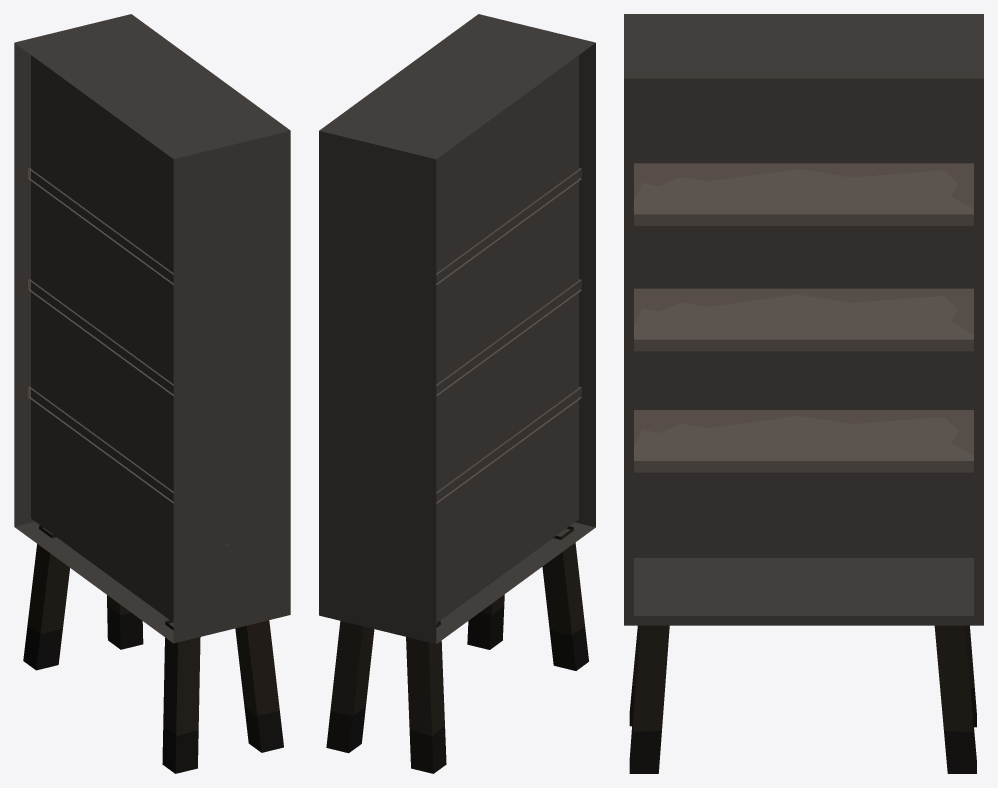
Rendered from bookShelfStanding.obj.
The picture shows the model from 3 angles, left to right: view 1: azimuth 30°, elevation 25°; view 2: azimuth 150°, elevation 25°; view 3: azimuth 270°, elevation 25°; orthographic projection. The views are drawn at different scales.
Visible parts, largest first — view 1: Cube, Cube.001, Cube.003, Cube.005, Cube.004, Cube.002, Cube.006, Cube.007; view 2: Cube, Cube.005, Cube.004, Cube.001, Cube.003, Cube.006, Cube.007, Cube.002; view 3: Cube, Cube.006, Cube.002, Cube.007, Cube.004, Cube.003.
Part boxes in pixels (x1,y1,x2,y2): Cube: (14, 14, 290, 643); Cube.001: (162, 620, 200, 773); Cube.003: (235, 620, 283, 752); Cube.005: (23, 525, 69, 670); Cube.004: (107, 595, 143, 649); Cube.002: (28, 386, 173, 503); Cube.006: (28, 279, 173, 395); Cube.007: (28, 168, 173, 284); Cube: (319, 14, 595, 644); Cube.005: (406, 621, 446, 773); Cube.004: (326, 621, 374, 753); Cube.001: (542, 526, 588, 670); Cube.003: (467, 594, 504, 649); Cube.006: (436, 279, 581, 396); Cube.007: (436, 168, 581, 285); Cube.002: (436, 386, 581, 503); Cube: (624, 14, 983, 625); Cube.006: (634, 288, 973, 351); Cube.002: (634, 410, 973, 472); Cube.007: (634, 163, 973, 225); Cube.004: (934, 625, 976, 773); Cube.003: (629, 625, 669, 773).
Size of the model in its own units: 1.16 by 5.86 by 2.74.
Materials: 8 (8 with a texture image).
